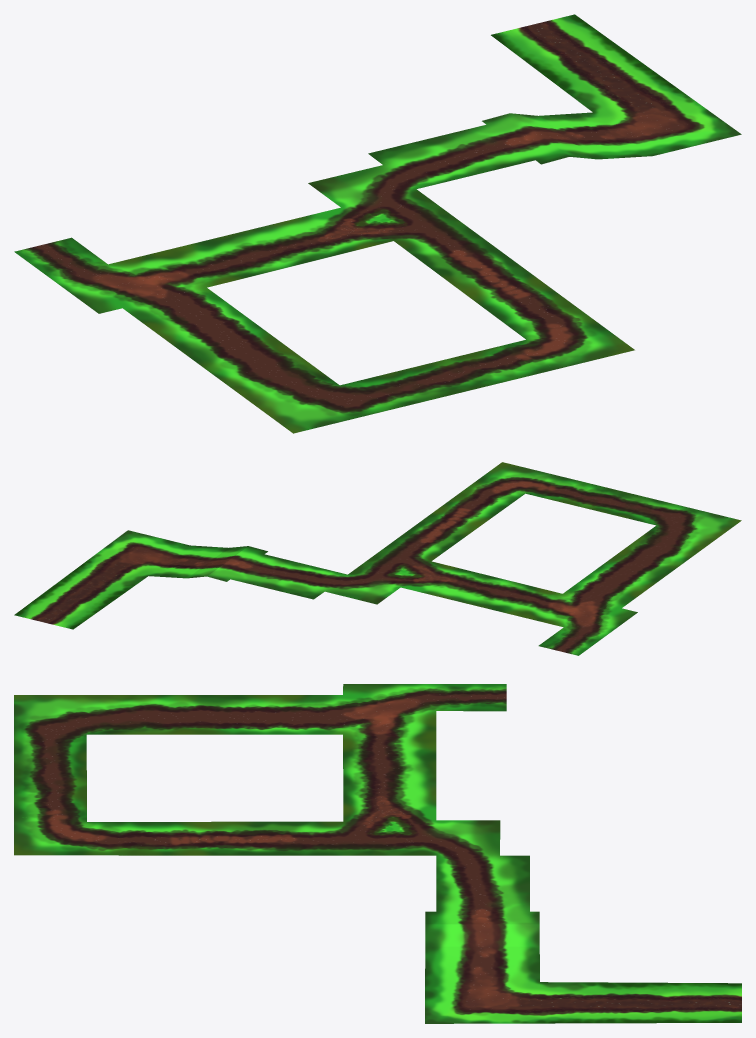
File: Pathway_Blank_2.fbx
3 renders of one model, top to bottom at view 1: azimuth 30°, elevation 25°; view 2: azimuth 150°, elevation 25°; view 3: azimuth 270°, elevation 25°, orthographic. The views are drawn at different scales.
Parts seen in each view (by area): view 1: groundLeadingToTown; view 2: groundLeadingToTown; view 3: groundLeadingToTown.
Part boxes in pixels (x1,y1,x2,y2): groundLeadingToTown: [14, 14, 741, 433]; groundLeadingToTown: [14, 462, 741, 655]; groundLeadingToTown: [14, 684, 741, 1023].
Bounding box in the file's own units: 10188 × 281 × 9745.
Materials: 1 (1 with a texture image).
